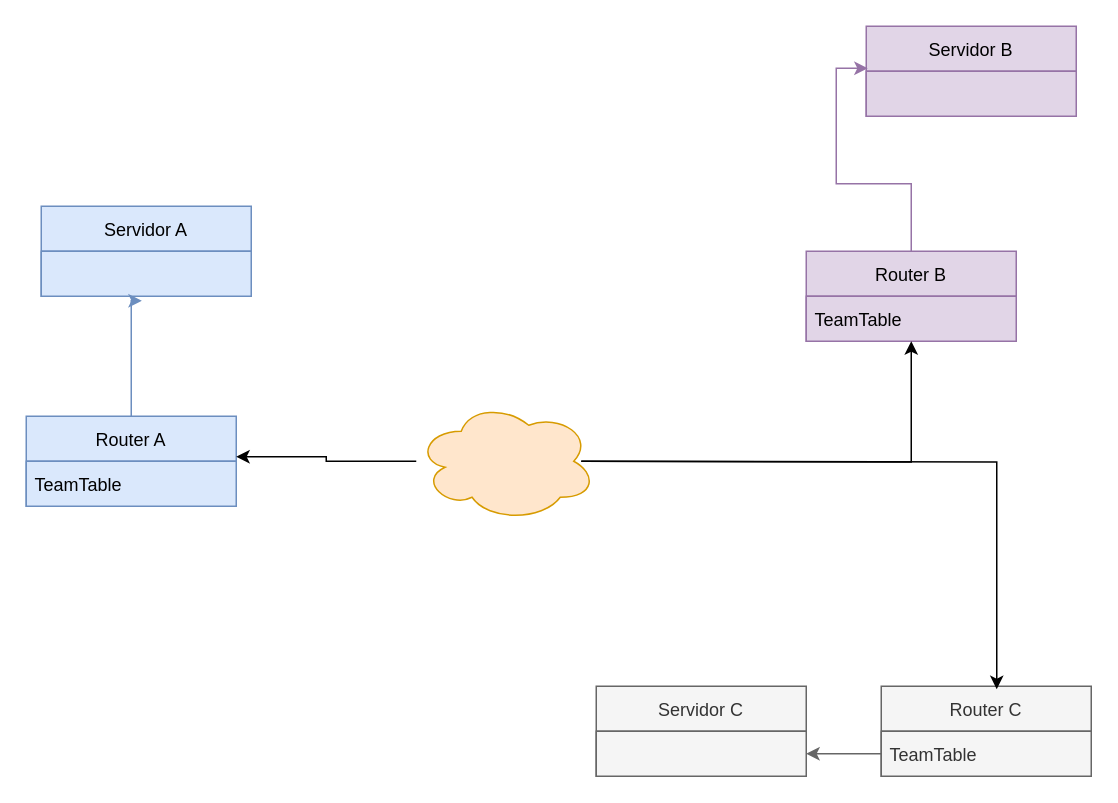
This 1118x803 diagram has some shape labels left out. Here are the shapes that lost their labels. From the top down, the centre of each, then its label:
At pixel 970 93: "Grupo D".
At pixel 145 273: "Grupo C".
At pixel 505 460: "Router".
At pixel 700 753: "Grupo E".
